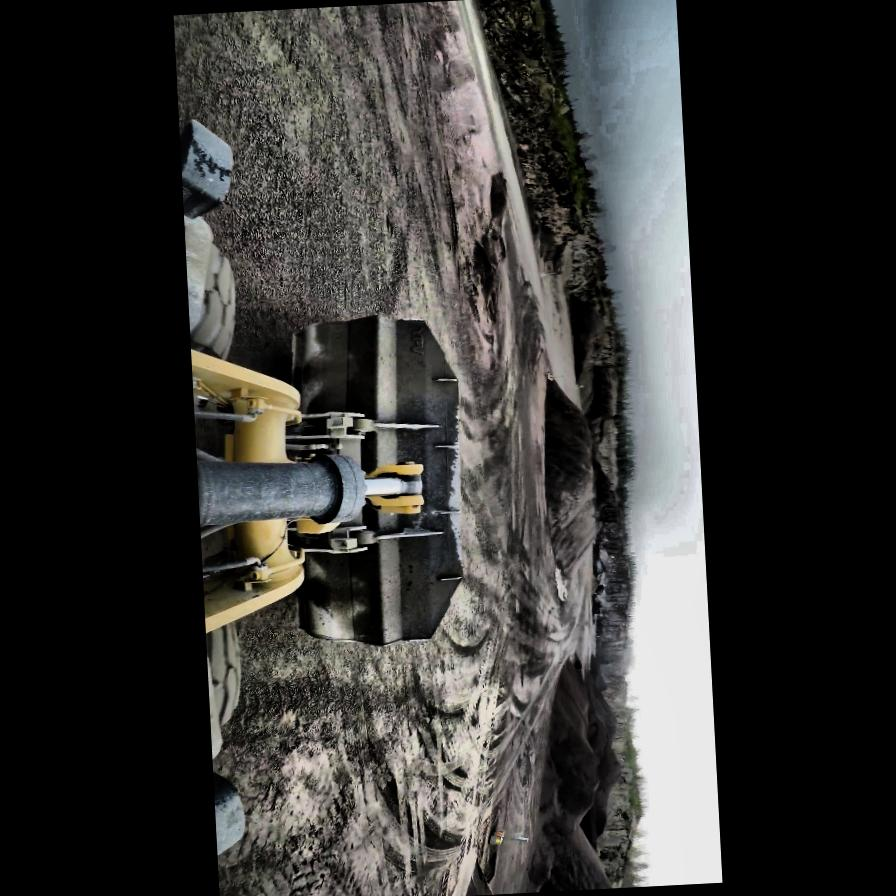anchor: (363, 460, 425, 514)
pile of gravel: (512, 648, 632, 892), (538, 370, 602, 563), (583, 661, 621, 760), (570, 290, 608, 382), (590, 734, 628, 826), (582, 352, 618, 440), (456, 862, 498, 896), (593, 458, 616, 518)
